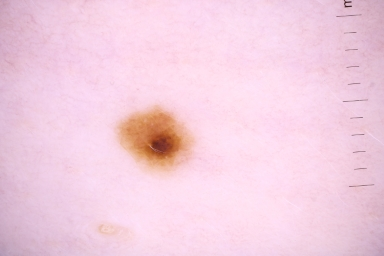nevus: (118, 105, 190, 167)
